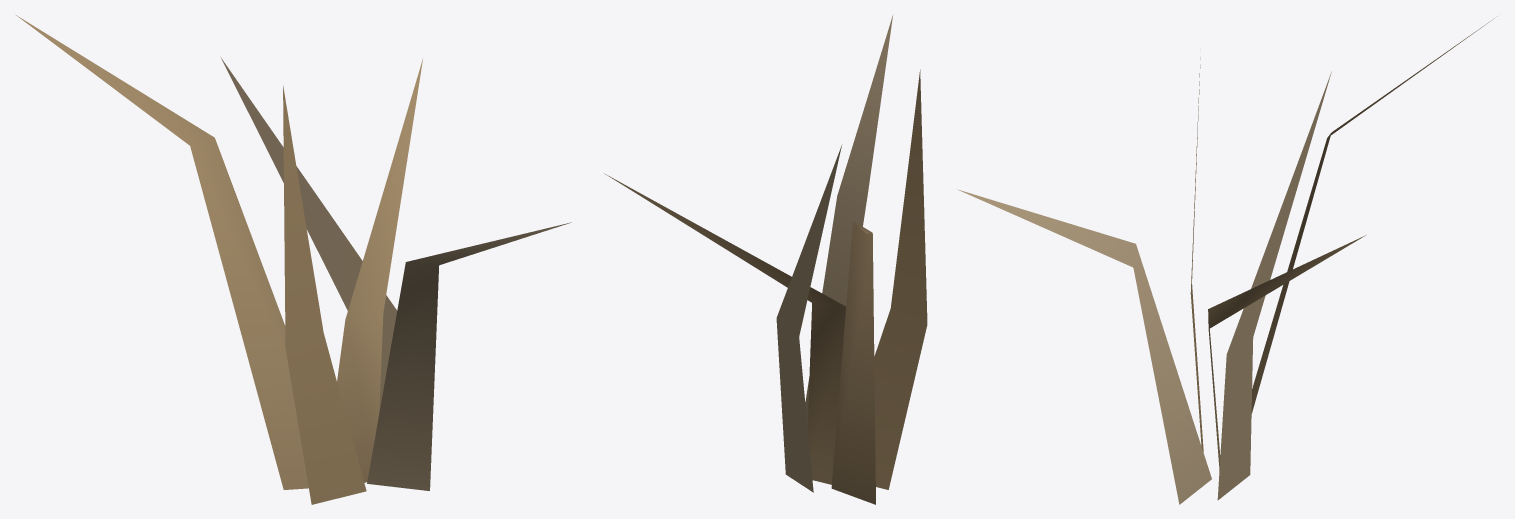
Rendered from Grass_g_TwoS_01.fbx.
The picture shows the model from 3 angles, left to right: view 1: azimuth 30°, elevation 25°; view 2: azimuth 150°, elevation 25°; view 3: azimuth 270°, elevation 25°; orthographic projection. The views are drawn at different scales.
Parts seen in each view (by area): view 1: Grass_g_TwoS_01; view 2: Grass_g_TwoS_01; view 3: Grass_g_TwoS_01.
Boxes of the visible parts, box(x1,y1,x2,y2) form: Grass_g_TwoS_01: box(15, 14, 571, 504); Grass_g_TwoS_01: box(604, 14, 927, 504); Grass_g_TwoS_01: box(957, 16, 1497, 504).
Bounding box in the file's own units: 41.7 × 50.97 × 62.78.
